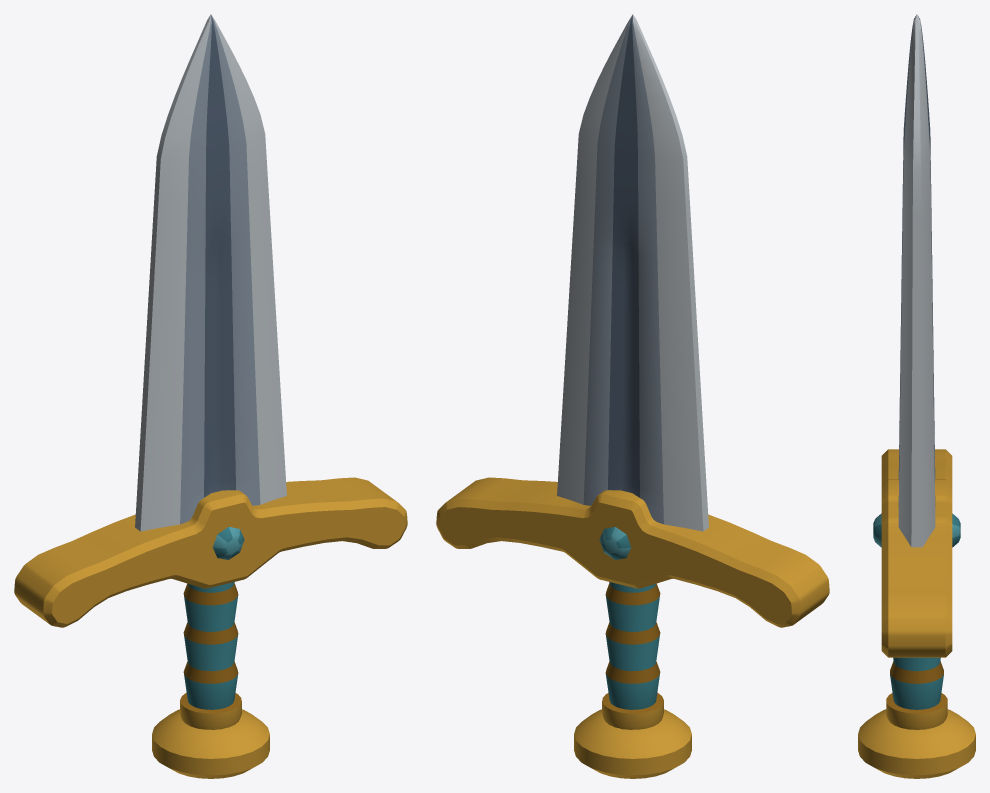
Rendered from Broadsword_11.glb.
3 renders of one model, left to right at view 1: azimuth 30°, elevation 25°; view 2: azimuth 150°, elevation 25°; view 3: azimuth 270°, elevation 25°, orthographic.
Visible parts, largest first — view 1: Broadsword_11; view 2: Broadsword_11; view 3: Broadsword_11.
Part boxes in pixels (<box>): Broadsword_11: <box>14,14,407,778</box>; Broadsword_11: <box>436,14,829,778</box>; Broadsword_11: <box>858,14,975,778</box>.
Bounding box in the file's own units: 2.89 × 5.66 × 0.8112.
